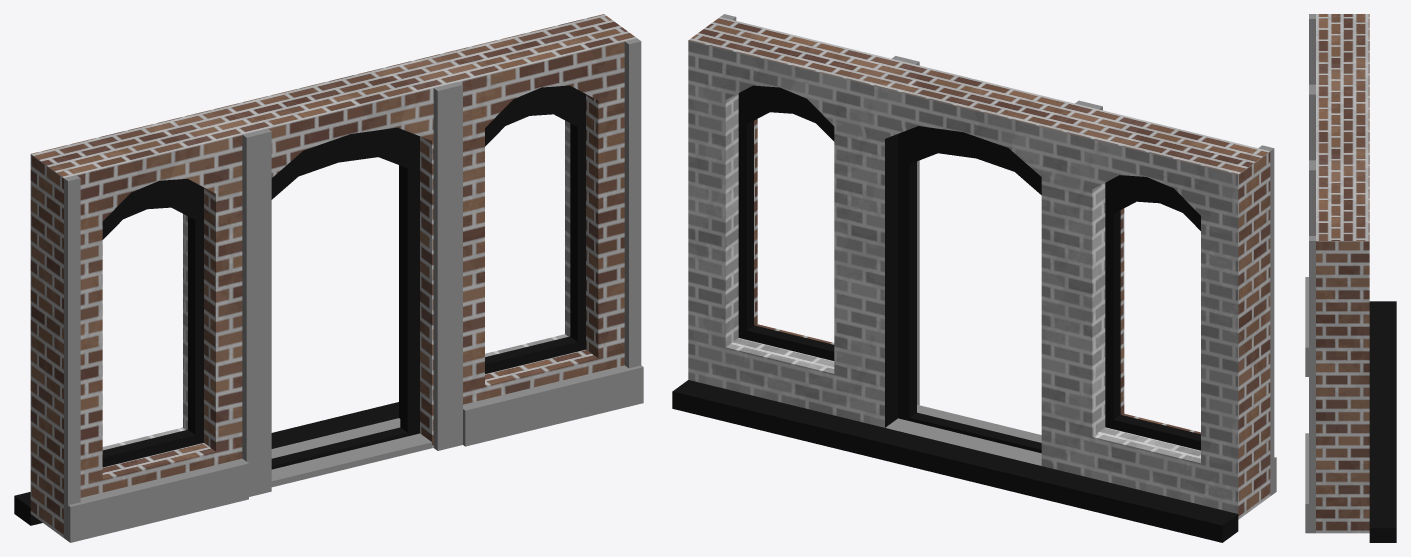
Rendered from Door_Wall_002.FBX.
3 views of the same model, side by side, from view 1: azimuth 30°, elevation 25°; view 2: azimuth 150°, elevation 25°; view 3: azimuth 270°, elevation 25° (orthographic). The views are drawn at different scales.
Visible parts, largest first — view 1: Door_Wall_002; view 2: Door_Wall_002; view 3: Door_Wall_002.
Part boxes in pixels (bbox=[...]): Door_Wall_002: bbox=[14, 14, 643, 542]; Door_Wall_002: bbox=[672, 14, 1276, 542]; Door_Wall_002: bbox=[1305, 14, 1396, 542].
Size of the model in its own units: 500 by 85 by 310.
